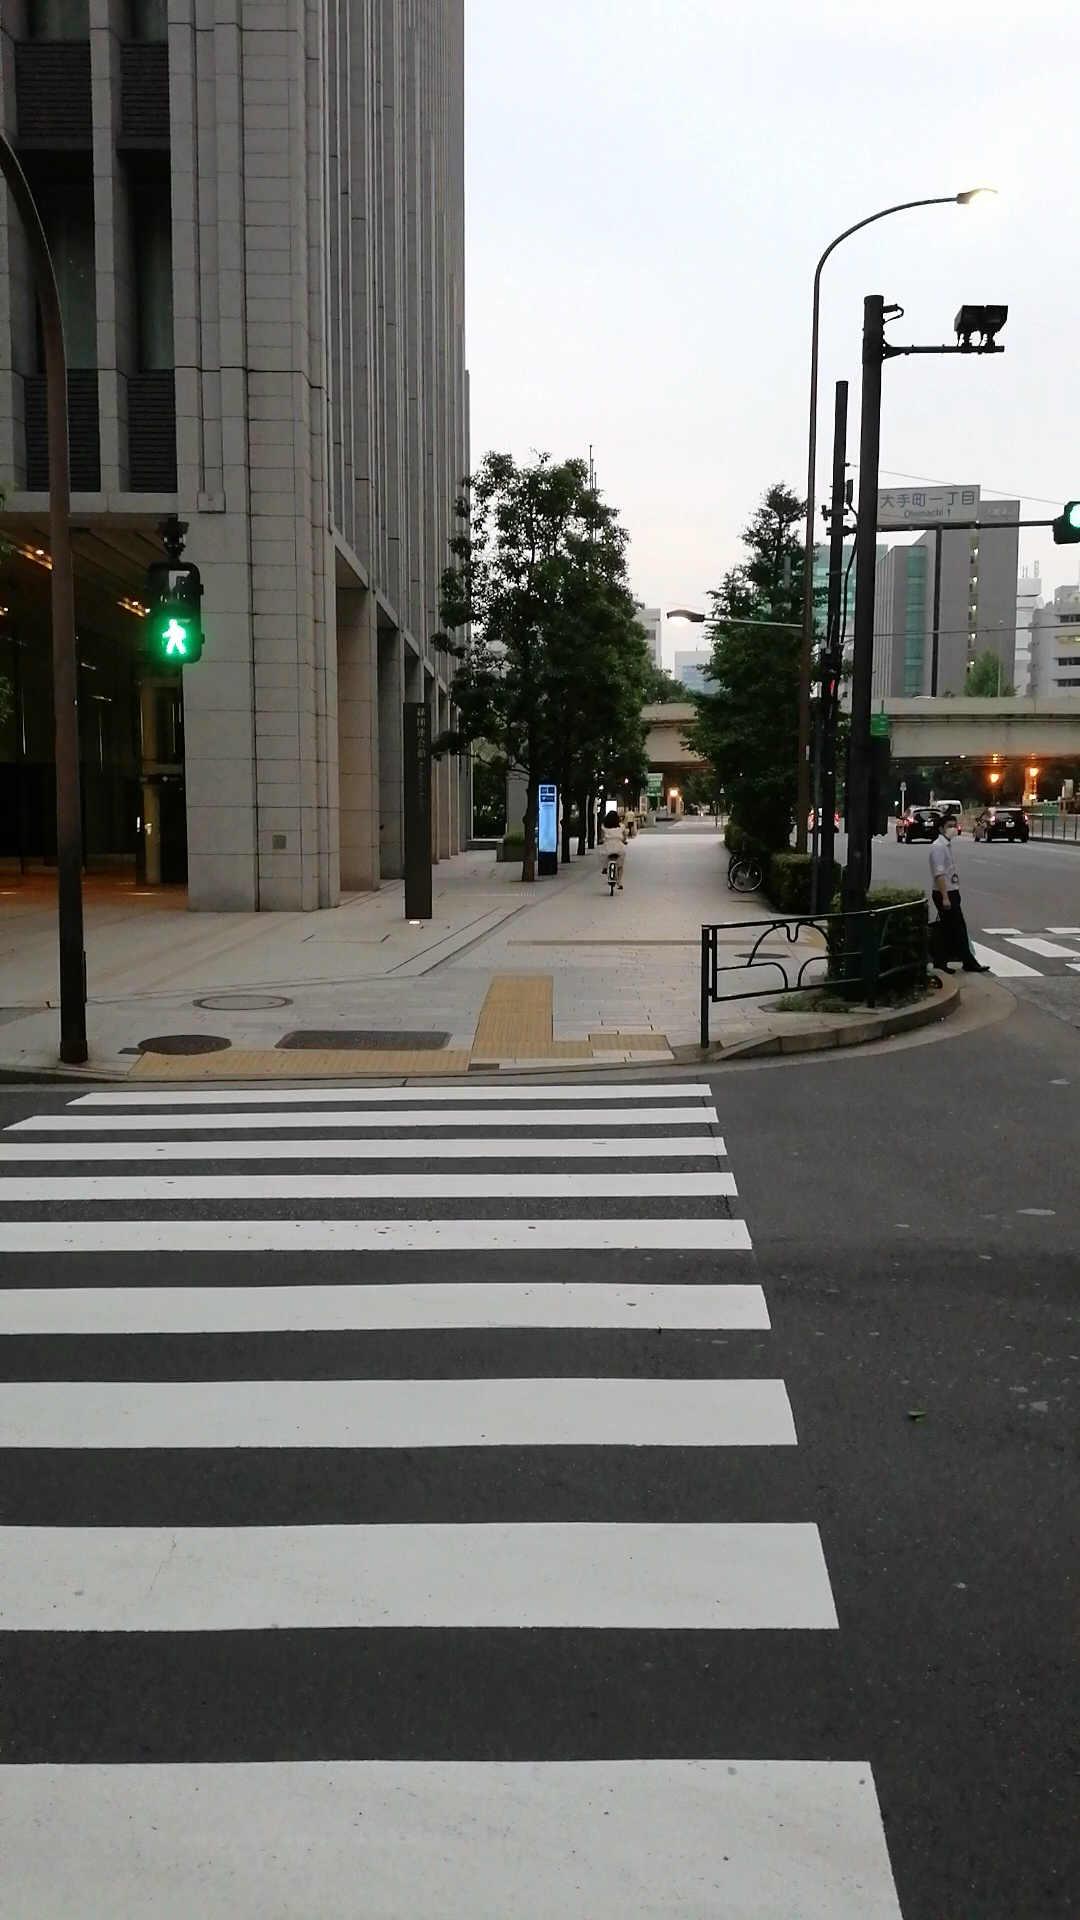green: (146, 559, 204, 665)
